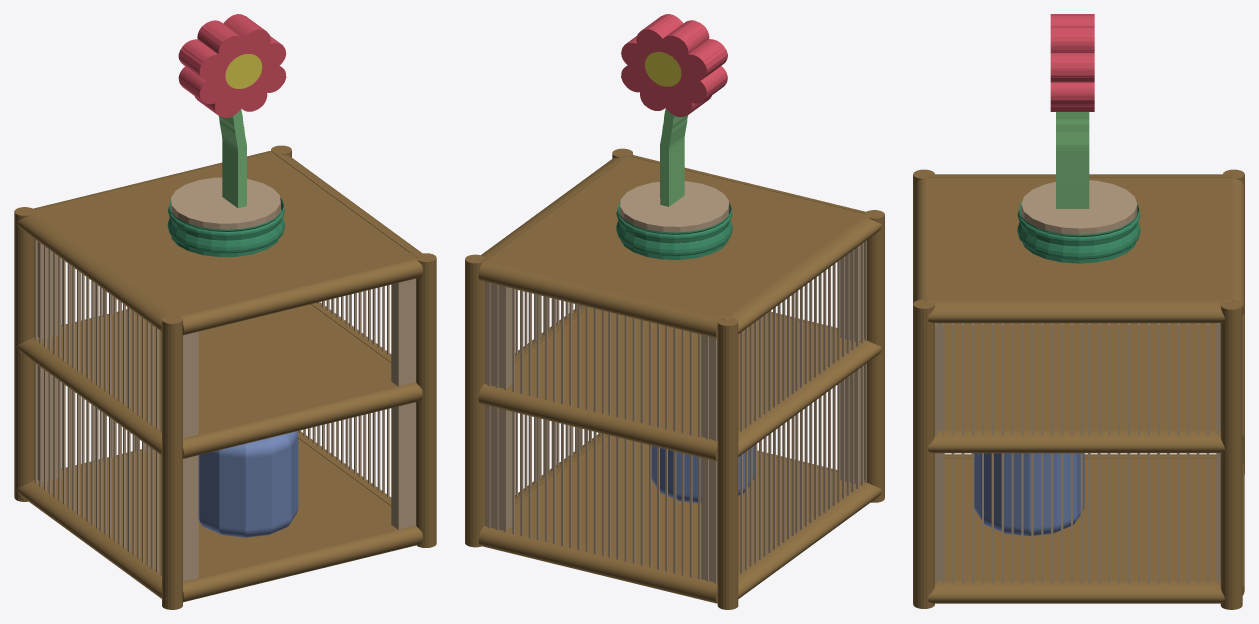
Rendered from Shelf.glb.
The picture shows the model from 3 angles, left to right: view 1: azimuth 30°, elevation 25°; view 2: azimuth 150°, elevation 25°; view 3: azimuth 270°, elevation 25°; orthographic projection. The views are drawn at different scales.
Visible parts, largest first — view 1: Mesh_Mesh_head_geo.001_lambert2SG.001; view 2: Mesh_Mesh_head_geo.001_lambert2SG.001; view 3: Mesh_Mesh_head_geo.001_lambert2SG.001.
Boxes of the visible parts, x1,y1,x2,y2 form: Mesh_Mesh_head_geo.001_lambert2SG.001: [14, 14, 436, 609]; Mesh_Mesh_head_geo.001_lambert2SG.001: [465, 14, 884, 609]; Mesh_Mesh_head_geo.001_lambert2SG.001: [913, 14, 1244, 609].
Bounding box in the file's own units: 60 × 104 × 60.
